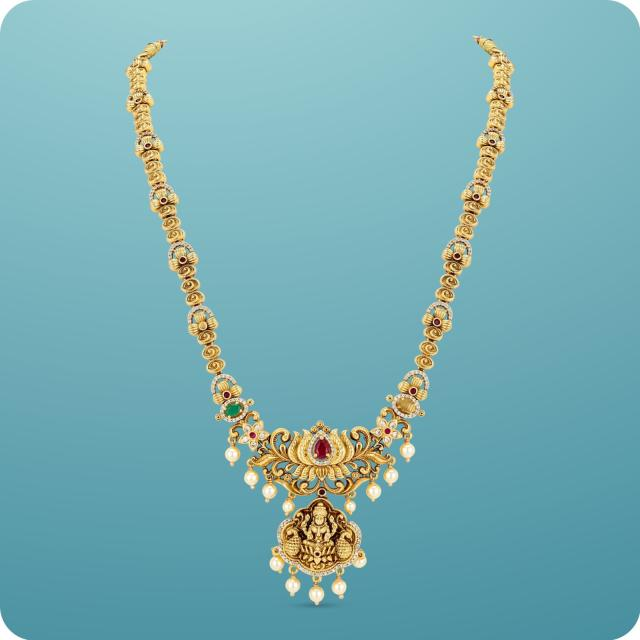missing gem: (396, 397, 416, 415), (199, 322, 207, 330)
